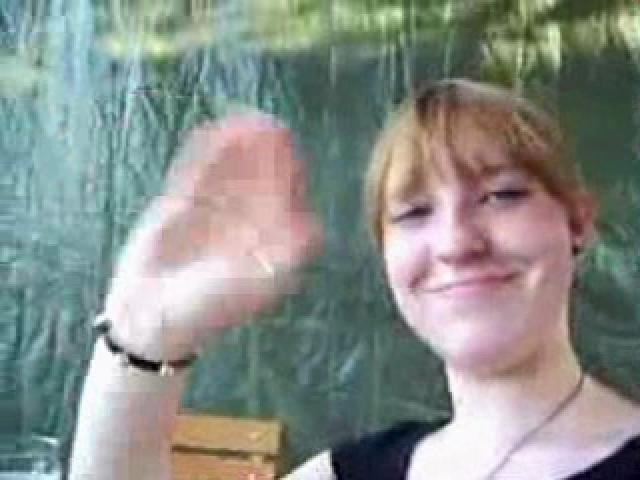T: (58, 82, 640, 476)
